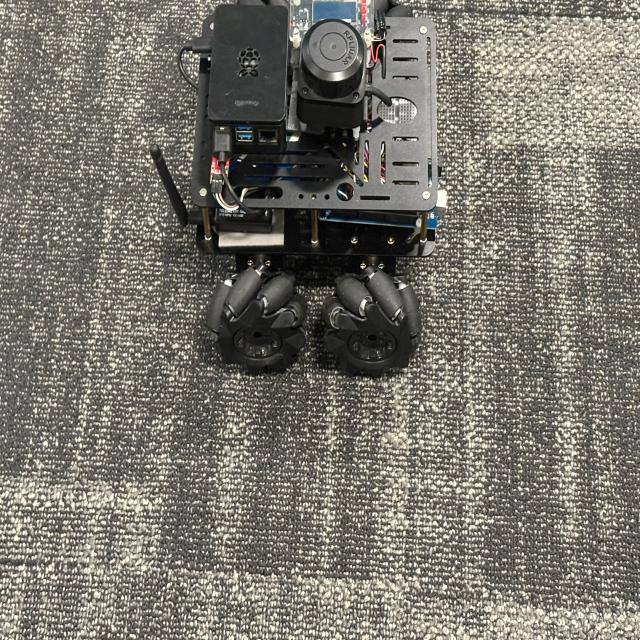ArduinoCar3: (154, 0, 452, 374)
